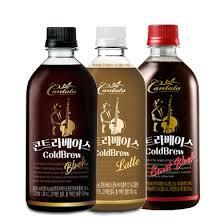contrabass_sweetblack: (147, 24, 207, 210)
